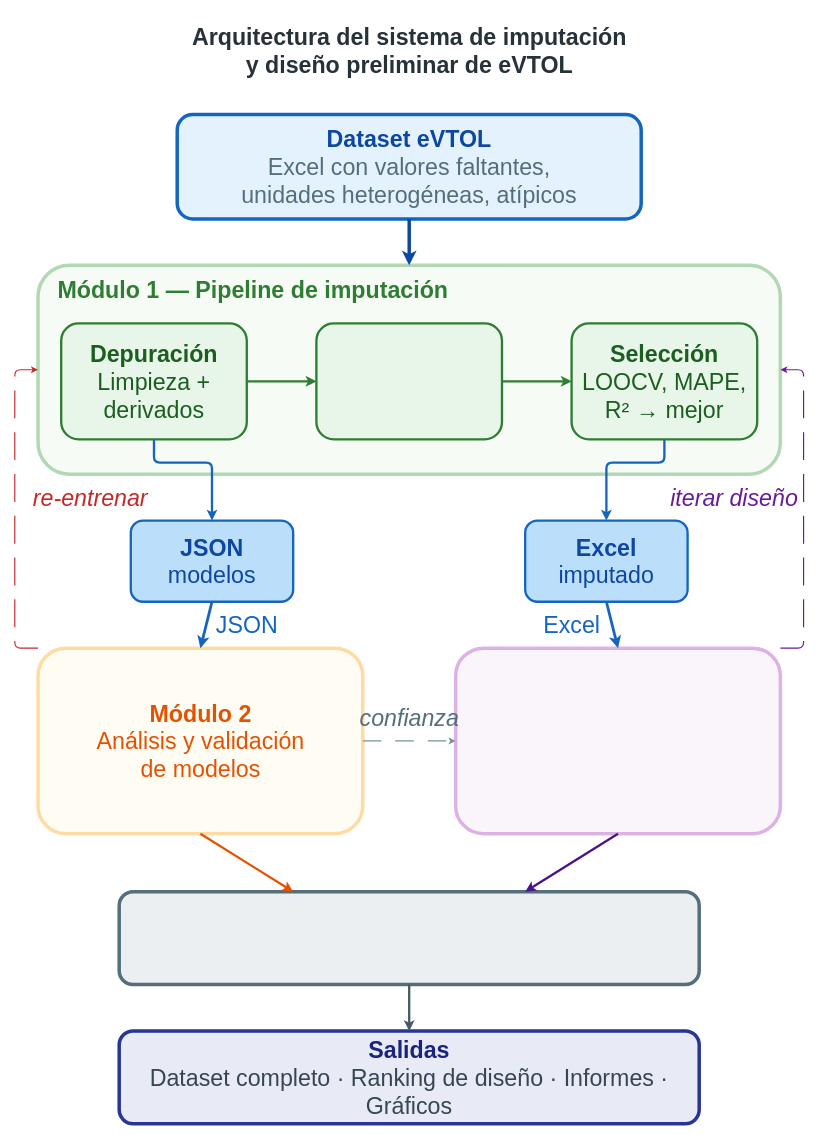
This 818x1135 diagram has some shape labels left out. Here are the shapes that lost their labels. From the top down, the centre of each, then its label:
pixel 409 381: Imputación Correlación + similitud
pixel 618 740: Módulo 3 Asistente de diseño preliminar eVTOL
pixel 409 938: Interpretación integrada Calidad de imputación + factibilidad del diseño
